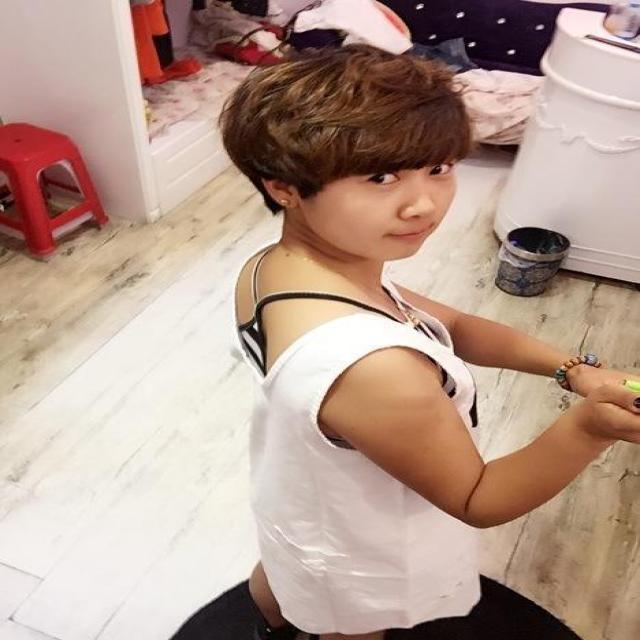vest dress: (233, 241, 483, 635)
